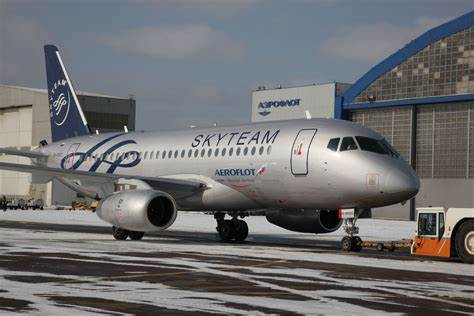Aeronef_commercial: (1, 34, 435, 259)
